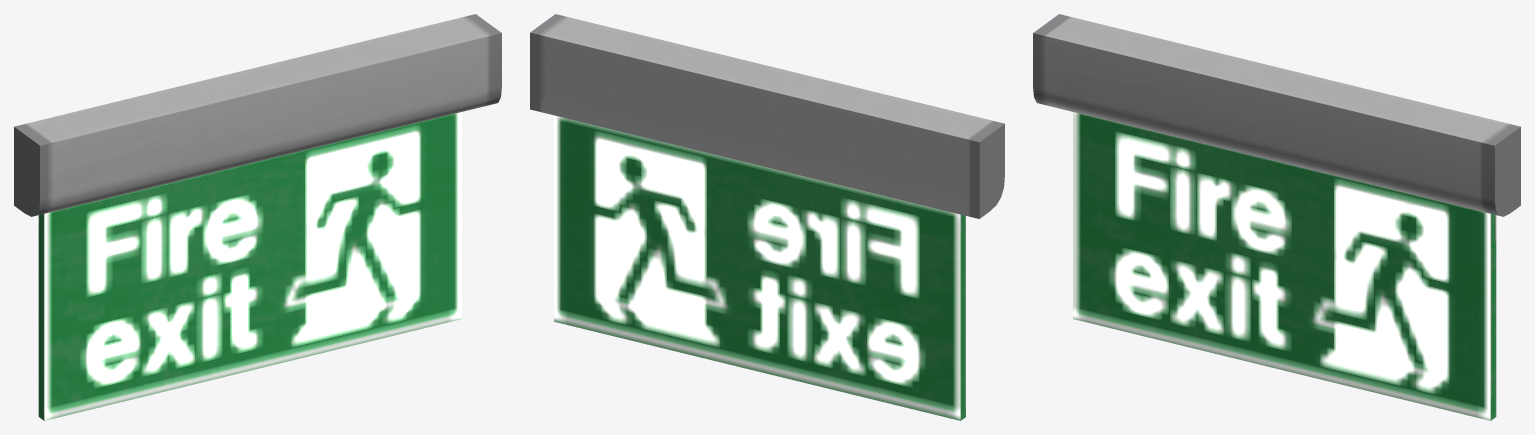
The model's file is SM_FireExit.fbx.
3 renders of one model, left to right at view 1: azimuth 30°, elevation 25°; view 2: azimuth 150°, elevation 25°; view 3: azimuth 330°, elevation 25°, orthographic. The views are drawn at different scales.
Visible parts, largest first — view 1: SM_FireExit; view 2: SM_FireExit; view 3: SM_FireExit.
Boxes of the visible parts, box(x1,y1,x2,y2) form: SM_FireExit: box(14, 14, 501, 420); SM_FireExit: box(530, 14, 1004, 420); SM_FireExit: box(1033, 14, 1520, 420).
Bounding box in the file's own units: 45.9 × 4.5 × 27.89.
1 material, 1 textured.
